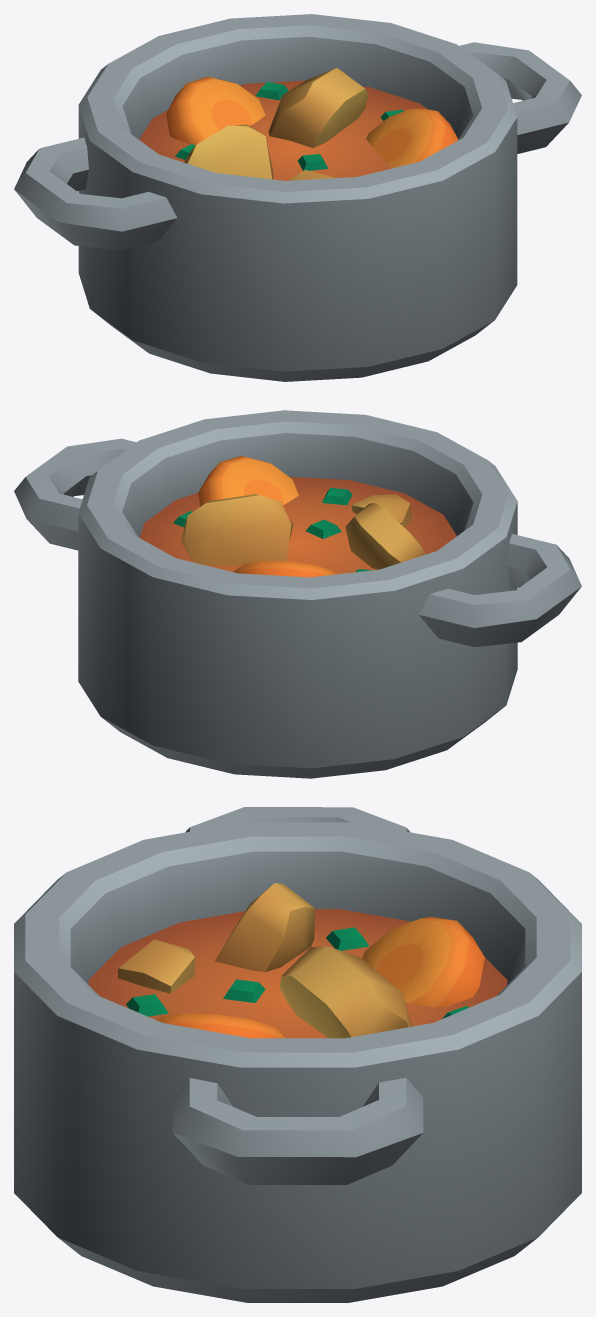
File: pot.glb
3 renders of one model, top to bottom at view 1: azimuth 30°, elevation 25°; view 2: azimuth 150°, elevation 25°; view 3: azimuth 270°, elevation 25°, orthographic. The views are drawn at different scales.
Visible parts, largest first — view 1: pot_A_stew; view 2: pot_A_stew; view 3: pot_A_stew.
Boxes of the visible parts, left/top/right/bottom form: pot_A_stew: left=14, top=14, right=581, bottom=381; pot_A_stew: left=14, top=410, right=581, bottom=778; pot_A_stew: left=14, top=807, right=581, bottom=1302.
Bounding box in the file's own units: 1.4 × 0.516 × 1.
1 material, 1 textured.
